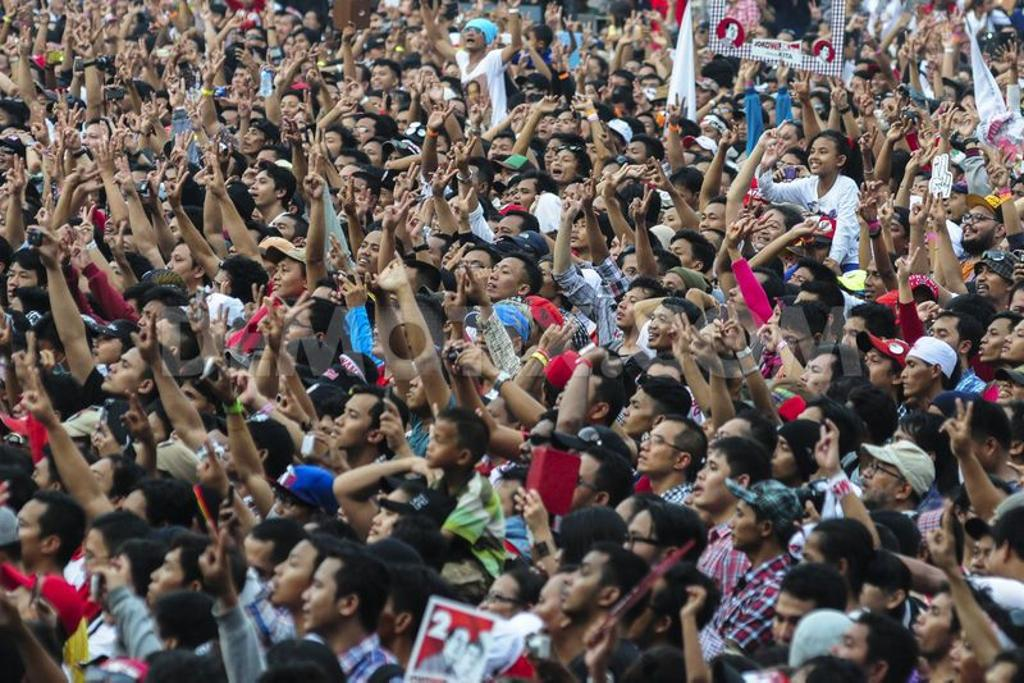face: (563, 556, 622, 618), (302, 571, 360, 628), (828, 629, 890, 681), (518, 421, 574, 477), (477, 583, 539, 633), (694, 458, 752, 511), (775, 601, 830, 656), (488, 479, 541, 535), (271, 548, 324, 604), (148, 553, 202, 607), (618, 521, 672, 575), (364, 497, 421, 548), (564, 452, 609, 515), (329, 403, 386, 451), (915, 602, 968, 653), (523, 584, 577, 634), (9, 511, 60, 562), (425, 422, 474, 471), (728, 502, 777, 550), (239, 549, 286, 599), (709, 423, 765, 464), (952, 631, 996, 683), (799, 541, 850, 585), (966, 495, 1009, 547), (860, 457, 902, 509), (472, 314, 515, 363), (222, 428, 261, 482), (80, 541, 127, 585), (616, 286, 664, 329), (764, 433, 806, 481), (478, 394, 518, 444), (682, 482, 725, 528), (102, 357, 155, 394), (647, 301, 687, 350), (271, 486, 311, 535), (781, 319, 823, 365), (685, 328, 727, 374), (555, 377, 594, 426), (711, 335, 749, 385), (81, 465, 124, 509), (928, 323, 973, 365), (406, 364, 447, 410), (103, 558, 140, 606), (639, 429, 680, 472), (620, 394, 664, 434), (282, 311, 327, 350), (864, 351, 909, 389), (728, 274, 768, 316), (841, 325, 884, 364), (766, 299, 805, 341), (775, 356, 814, 397), (163, 247, 204, 286), (800, 362, 842, 400), (487, 262, 531, 298), (962, 212, 1007, 247), (978, 261, 1018, 300), (782, 265, 821, 304), (91, 329, 130, 368), (864, 266, 905, 302), (389, 267, 432, 301), (971, 541, 1008, 580), (372, 320, 408, 360), (167, 217, 203, 257), (457, 255, 493, 293), (656, 274, 691, 313), (354, 239, 393, 274), (177, 387, 211, 427), (210, 268, 243, 309), (981, 325, 1016, 363), (249, 197, 285, 232), (272, 260, 304, 298), (7, 264, 37, 304), (516, 180, 550, 214), (621, 256, 656, 289), (148, 324, 181, 359), (492, 220, 527, 253), (229, 232, 262, 266), (25, 463, 57, 498), (138, 311, 173, 343), (756, 216, 788, 250), (700, 208, 734, 240), (250, 173, 282, 207), (345, 180, 376, 215), (662, 273, 694, 306), (592, 200, 624, 232), (104, 265, 133, 300), (668, 242, 697, 277), (802, 235, 834, 266), (487, 138, 519, 169), (907, 293, 933, 330), (443, 240, 473, 272), (808, 143, 838, 174), (79, 126, 110, 155), (884, 220, 912, 252), (570, 221, 600, 250), (943, 188, 971, 219), (561, 189, 592, 217), (117, 226, 145, 257), (270, 221, 298, 251), (423, 239, 450, 270), (104, 212, 131, 243), (551, 155, 580, 183), (508, 185, 535, 215), (334, 158, 360, 189), (997, 375, 1023, 406), (376, 185, 404, 213), (321, 134, 349, 162), (625, 145, 651, 175), (543, 140, 569, 170), (445, 201, 473, 228), (38, 338, 64, 367), (600, 165, 626, 194), (912, 183, 939, 210), (386, 151, 413, 178), (662, 127, 687, 156), (431, 134, 454, 165), (499, 190, 524, 218), (446, 628, 468, 659), (429, 209, 451, 240), (407, 217, 429, 248), (355, 122, 382, 147), (242, 126, 267, 153), (147, 96, 170, 125), (530, 260, 557, 284), (669, 182, 692, 210), (334, 170, 362, 193), (164, 171, 187, 199), (118, 85, 141, 113), (361, 147, 386, 172), (454, 648, 478, 674), (555, 114, 578, 141), (157, 201, 179, 229), (462, 28, 487, 52), (580, 141, 602, 168), (877, 102, 898, 130), (1009, 290, 1024, 329), (369, 67, 393, 91), (366, 97, 389, 122), (658, 212, 684, 234), (608, 126, 627, 156), (252, 155, 276, 178), (1008, 183, 1024, 217), (739, 113, 757, 143), (853, 94, 877, 116), (688, 83, 710, 107), (395, 114, 415, 140), (713, 172, 732, 199), (610, 100, 631, 124), (607, 238, 627, 263), (384, 97, 404, 122), (1, 149, 23, 171), (905, 178, 926, 201), (779, 157, 802, 178), (636, 117, 657, 140), (539, 117, 559, 141), (803, 98, 822, 123), (948, 114, 966, 140), (937, 84, 956, 108), (281, 100, 302, 121), (960, 96, 980, 118), (317, 90, 340, 109), (850, 76, 868, 100), (1, 109, 17, 136), (780, 129, 798, 152), (687, 144, 707, 164), (293, 35, 313, 55), (715, 108, 737, 126), (369, 42, 387, 64), (138, 67, 157, 87), (925, 64, 943, 85), (842, 36, 860, 57), (610, 78, 628, 98), (448, 102, 466, 122), (700, 119, 721, 136), (128, 16, 145, 37), (520, 83, 539, 101), (527, 32, 544, 52), (404, 36, 424, 53), (284, 38, 301, 58), (232, 71, 249, 91), (220, 113, 237, 133), (973, 1, 999, 14), (761, 102, 777, 123), (585, 60, 601, 81), (643, 84, 662, 101), (639, 68, 656, 87), (446, 65, 464, 82), (894, 89, 910, 108), (748, 26, 764, 45), (581, 85, 597, 104), (244, 33, 263, 49), (722, 22, 740, 38), (873, 71, 886, 93), (272, 15, 287, 34), (468, 87, 484, 104), (278, 17, 294, 34), (624, 63, 639, 81), (1018, 41, 1024, 86), (853, 14, 866, 34), (860, 46, 876, 62), (692, 26, 707, 43), (371, 14, 386, 30), (303, 14, 318, 30), (114, 1, 129, 16), (409, 12, 423, 27), (420, 69, 433, 83), (401, 1, 414, 13), (821, 49, 832, 60), (125, 40, 135, 52), (186, 42, 195, 53), (52, 1, 65, 8), (38, 95, 47, 104), (1, 56, 6, 70)
